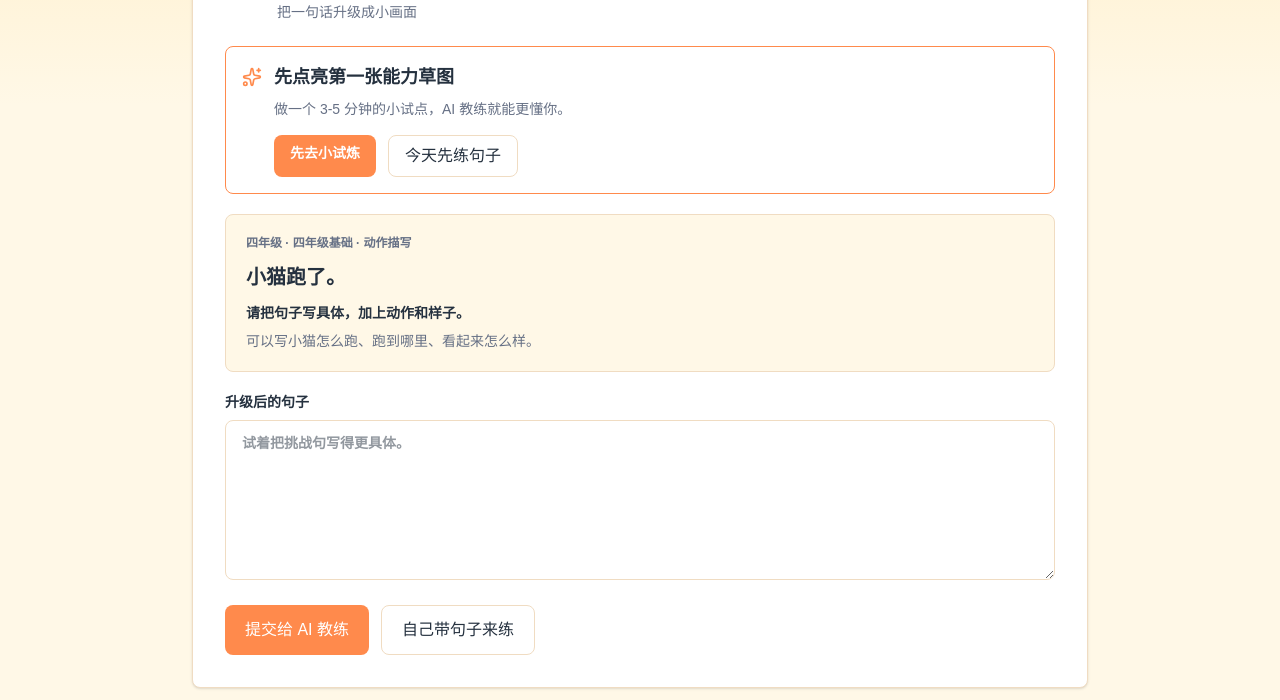
sentence page completes generated challenge and shows short feedback
(page scrolled)
In the text box labelled "升级后的句子": (640, 500) 225,420 -> 1055,580, type "小猫瞪大眼睛，飞快地跑过草地。"
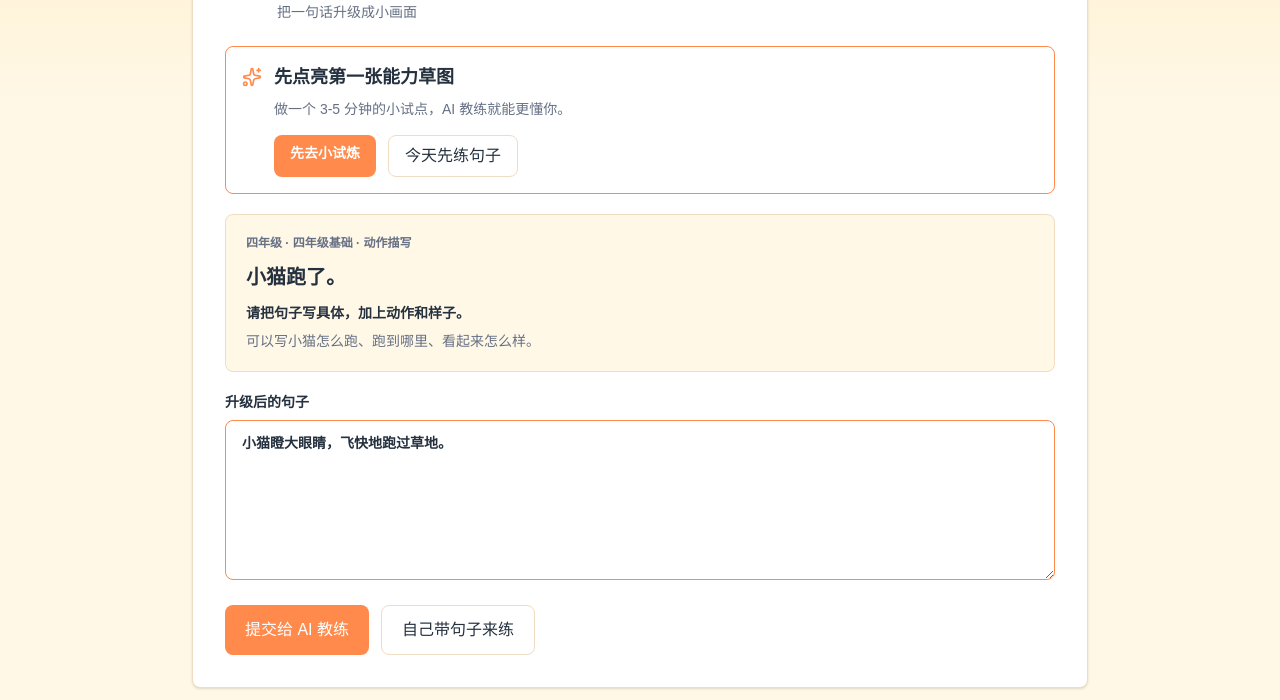
Click the button "提交给 AI 教练": (297, 630) 225,605 -> 369,655
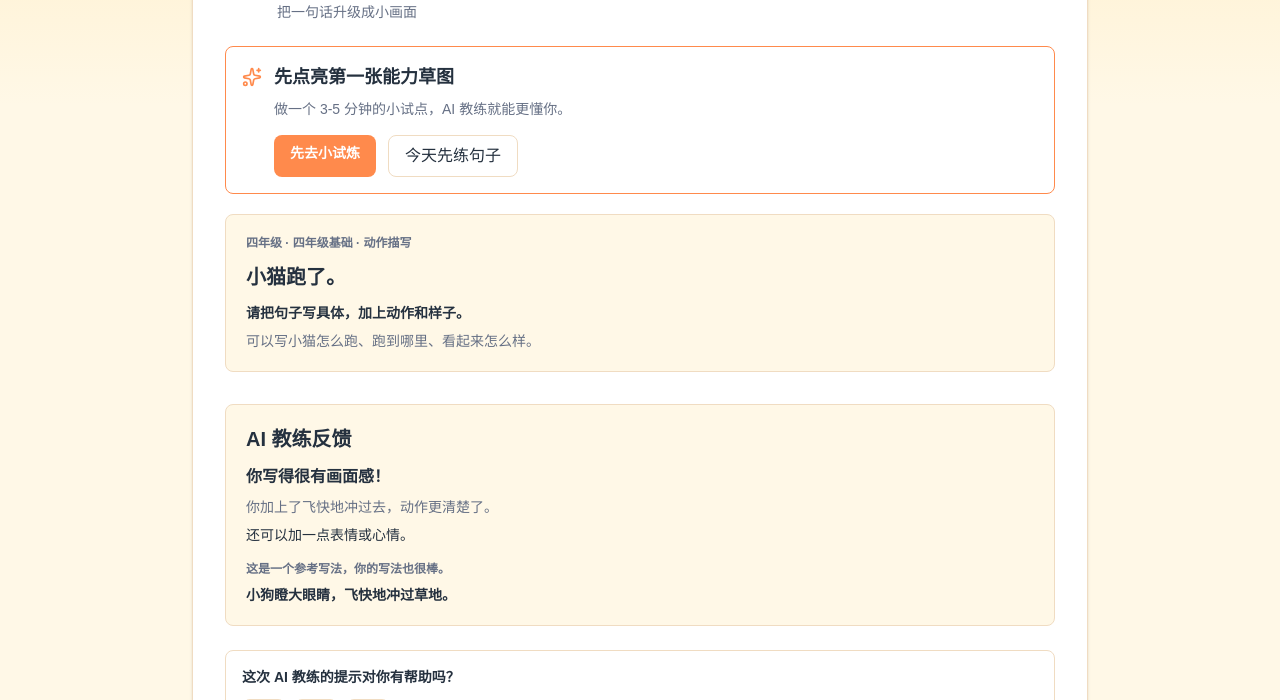
Check: the text "你写得很有画面感！" is shown, box 246,468 -> 390,485
Check: the text "这是一个参考写法，你的写法也很棒。" is shown, box 246,562 -> 450,576
Check: the text "小狗瞪大眼睛，飞快地冲过草地。" is shown, box 246,587 -> 456,603
